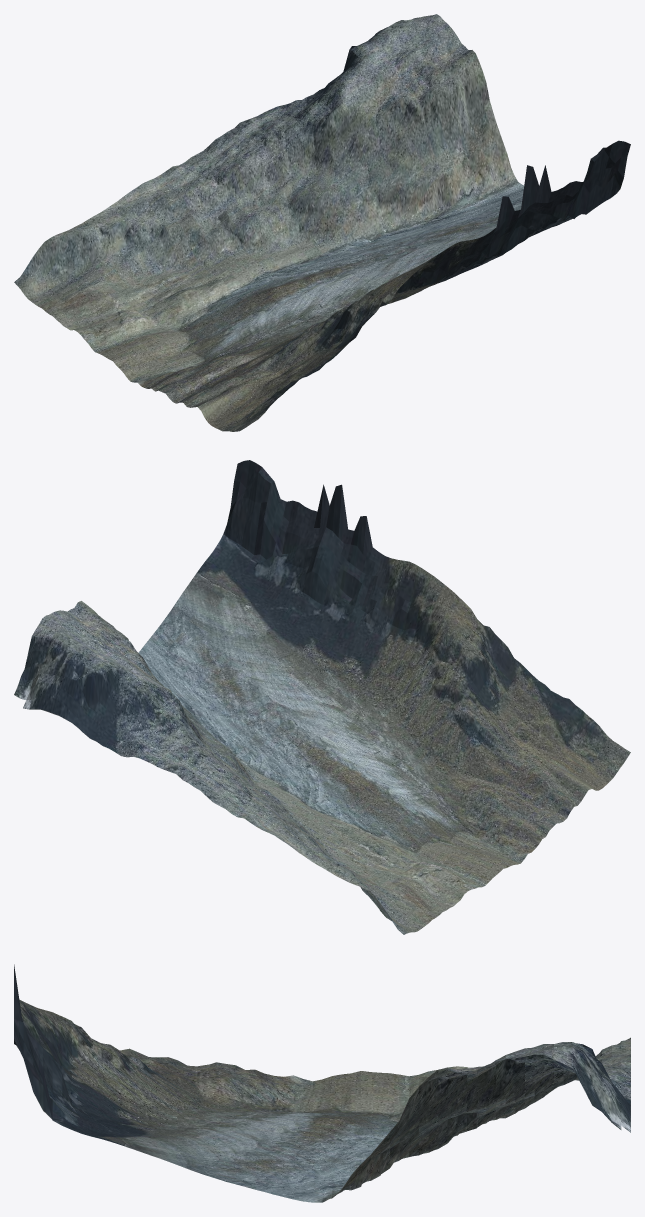
File: Silv_tile_38.gltf
3 renders of one model, top to bottom at view 1: azimuth 30°, elevation 25°; view 2: azimuth 150°, elevation 25°; view 3: azimuth 270°, elevation 25°, orthographic. The views are drawn at different scales.
Visible parts, largest first — view 1: 18.059; view 2: 18.059; view 3: 18.059.
Boxes of the visible parts, bbox=[...] form: 18.059: bbox=[14, 14, 630, 431]; 18.059: bbox=[14, 460, 630, 934]; 18.059: bbox=[14, 964, 630, 1202].
Bounding box in the file's own units: 0.5 × 0.2794 × 0.5.
1 material, 1 textured.
